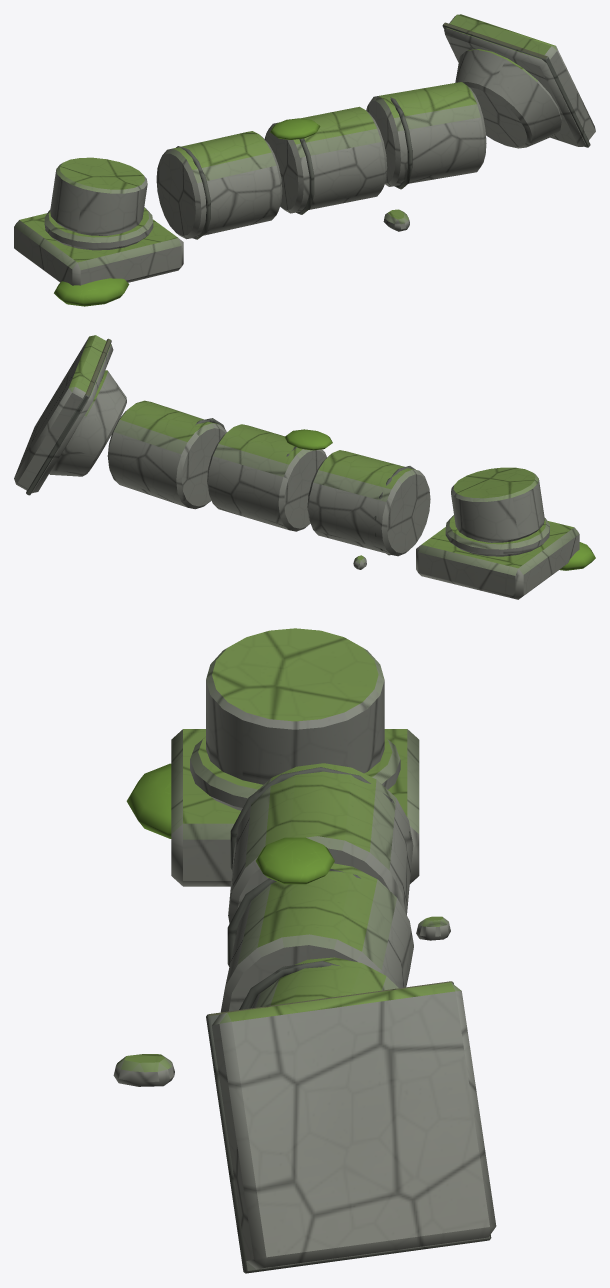
File: fallen_column.glb
3 renders of one model, top to bottom at view 1: azimuth 30°, elevation 25°; view 2: azimuth 150°, elevation 25°; view 3: azimuth 270°, elevation 25°, orthographic. The views are drawn at different scales.
Visible parts, largest first — view 1: fallen_column; view 2: fallen_column; view 3: fallen_column.
Part boxes in pixels (<box>): fallen_column: <box>14,14,595,306</box>; fallen_column: <box>14,335,595,599</box>; fallen_column: <box>113,628,496,1273</box>.
Bounding box in the file's own units: 6.24 × 1.4 × 1.93.
Materials: 3 (3 with a texture image).
